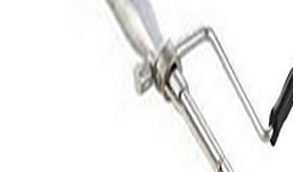Screwdriver: (95, 1, 293, 172)
